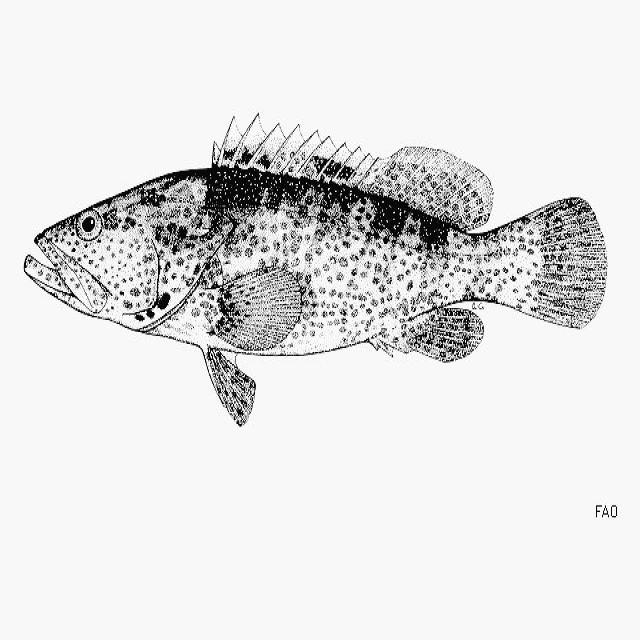ikan: (15, 97, 619, 455)
